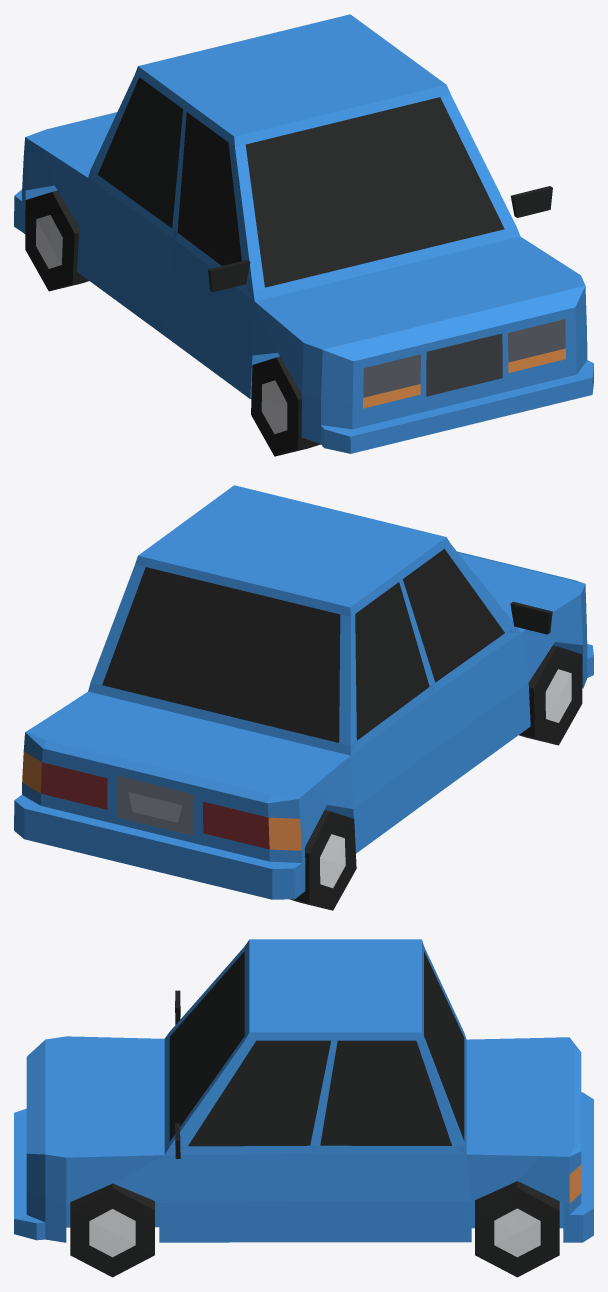
The model's file is Vehicles_Base.fbx.
3 renders of one model, top to bottom at view 1: azimuth 30°, elevation 25°; view 2: azimuth 150°, elevation 25°; view 3: azimuth 270°, elevation 25°, orthographic. The views are drawn at different scales.
Visible parts, largest first — view 1: Vehicles_Base; view 2: Vehicles_Base; view 3: Vehicles_Base.
Part boxes in pixels (bbox=[...]): Vehicles_Base: bbox=[14, 14, 593, 456]; Vehicles_Base: bbox=[14, 485, 593, 910]; Vehicles_Base: bbox=[14, 939, 593, 1277].
Bounding box in the file's own units: 235 × 168 × 384.
